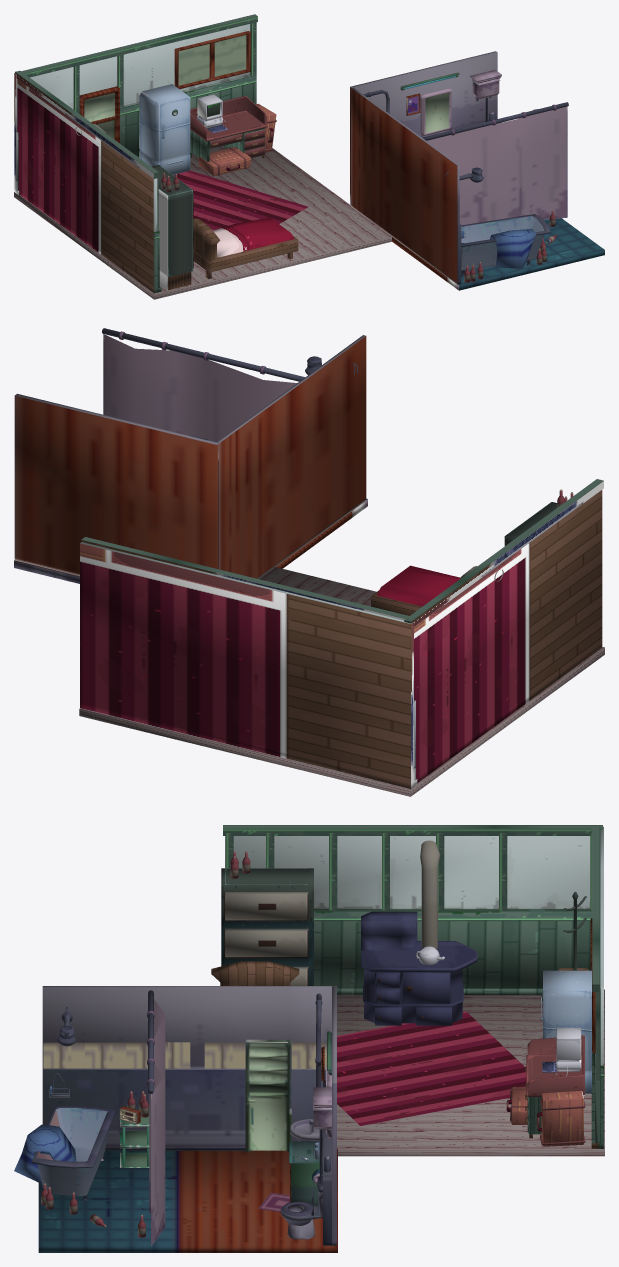
Rendered from EdRoomF.fbx.
3 renders of one model, top to bottom at view 1: azimuth 30°, elevation 25°; view 2: azimuth 150°, elevation 25°; view 3: azimuth 270°, elevation 25°, orthographic. The views are drawn at different scales.
Parts seen in each view (by area): view 1: Parede_Banheiro, Parede1, Cortina, Chao, Parede2, Cama, Geladeira, Tapete, Armario, Janela, Chao.001, Escrivaninha (+10 smaller); view 2: Parede2, Parede_Banheiro, Parede1, Cortina, Chao, Cube, Cama, Cube.009, Chao.001; view 3: Parede1, Parede_Banheiro, Chao.001, Tapete, Chao, Forno, Armario, Porta, Banheira, Cortina, Cube, Geladeira (+22 smaller).
Boxes of the visible parts, box(x1,y1,x2,y2) form: Parede_Banheiro: box(350, 51, 497, 284); Parede1: box(17, 79, 161, 293); Cortina: box(422, 102, 568, 225); Chao: box(14, 145, 391, 299); Parede2: box(14, 24, 256, 195); Cama: box(193, 217, 298, 279); Geladeira: box(139, 84, 190, 174); Tapete: box(174, 170, 308, 230); Armario: box(152, 165, 193, 290); Janela: box(174, 31, 250, 89); Chao.001: box(392, 218, 604, 290); Escrivaninha: box(190, 95, 267, 161); Parede2: box(80, 542, 417, 788); Parede_Banheiro: box(14, 335, 366, 578); Parede1: box(414, 490, 602, 783); Cortina: box(102, 328, 304, 441); Chao: box(79, 567, 604, 796); Cube: box(404, 479, 603, 626); Cama: box(371, 565, 460, 615); Cube.009: box(81, 537, 414, 620); Chao.001: box(14, 498, 367, 583); Parede1: box(225, 836, 592, 995); Parede_Banheiro: box(42, 986, 336, 1245); Chao.001: box(38, 1149, 337, 1252); Tapete: box(337, 1011, 526, 1125); Chao: box(337, 989, 604, 1156); Forno: box(361, 840, 477, 1025); Armario: box(221, 868, 313, 985); Porta: box(245, 1039, 291, 1152); Banheira: box(31, 1105, 115, 1200); Cortina: box(147, 990, 165, 1245); Cube: box(223, 825, 602, 835); Geladeira: box(541, 970, 591, 1093).
Bounding box in the file's own units: 1022 × 317 × 987.
